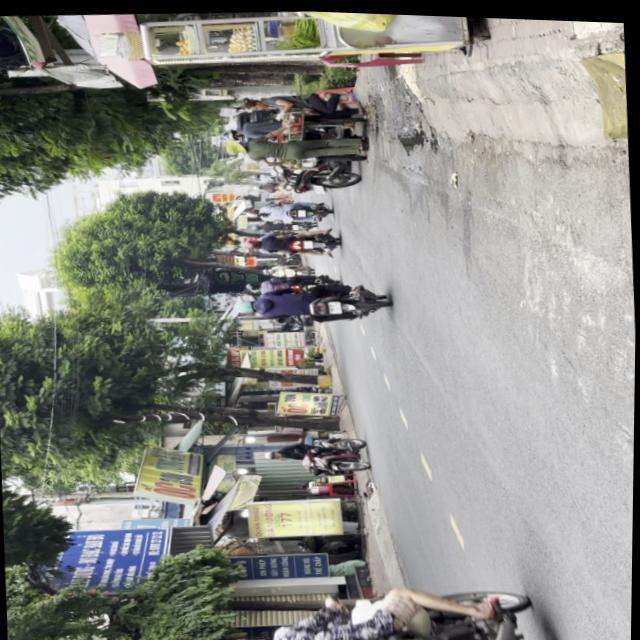helmet: (234, 298, 257, 314), (218, 634, 273, 640)
licenseplate: (211, 568, 558, 640), (232, 275, 391, 329)
